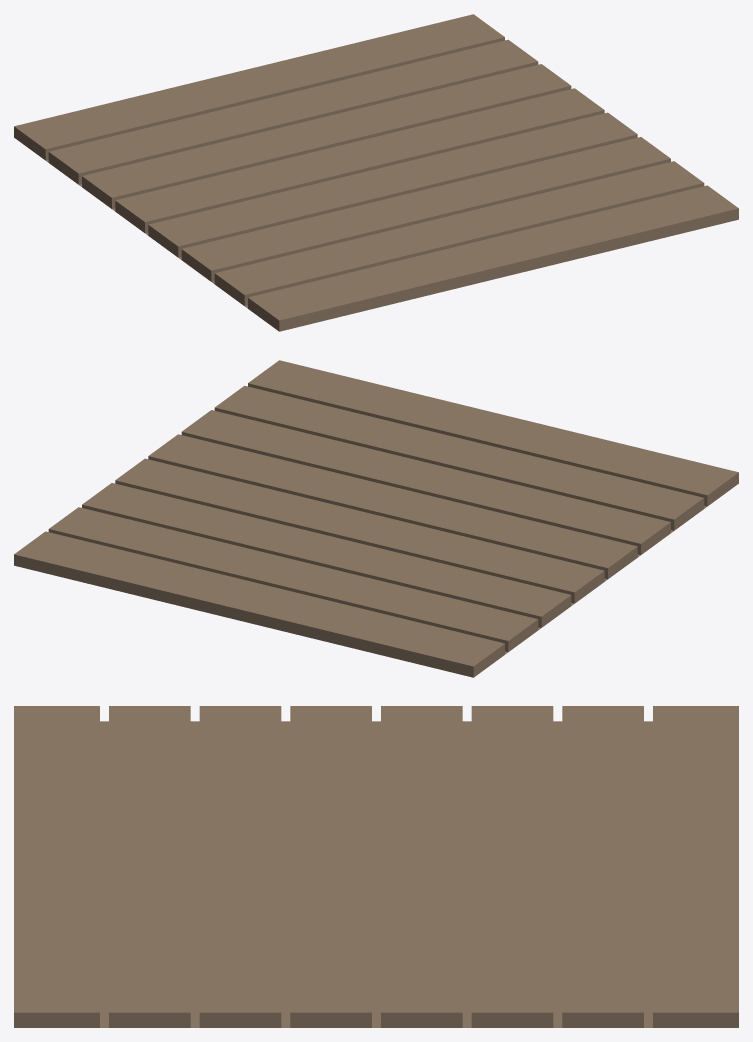
Rendered from Modular_Floor.fbx.
The picture shows the model from 3 angles, top to bottom: view 1: azimuth 30°, elevation 25°; view 2: azimuth 150°, elevation 25°; view 3: azimuth 270°, elevation 25°; orthographic projection. The views are drawn at different scales.
Visible parts, largest first — view 1: Floor1; view 2: Floor1; view 3: Floor1.
Boxes of the visible parts, <box> form: Floor1: <box>14,14,738,331</box>; Floor1: <box>14,360,738,677</box>; Floor1: <box>14,706,738,1027</box>.
Size of the model in its own units: 300 by 7 by 300.
